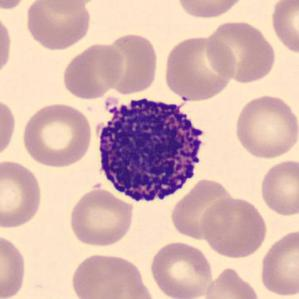Basophil: (90, 88, 212, 209)
RBC: (161, 33, 238, 102), (19, 101, 94, 169), (204, 18, 278, 84), (199, 195, 269, 260), (232, 92, 298, 160), (66, 187, 136, 248), (68, 251, 154, 299), (147, 238, 214, 299), (99, 31, 160, 96), (60, 41, 126, 101), (170, 179, 234, 240), (23, 0, 94, 51), (0, 157, 45, 230), (257, 227, 298, 298), (257, 158, 299, 218), (200, 265, 262, 299), (0, 231, 29, 299), (268, 0, 298, 56), (174, 0, 248, 20), (0, 94, 17, 162), (0, 11, 14, 80), (41, 0, 101, 14), (0, 0, 33, 11)
